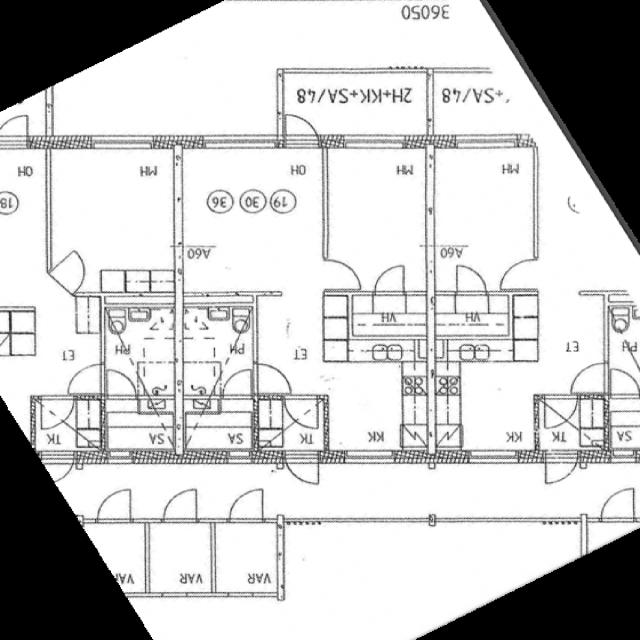door: (214, 501, 278, 598), (33, 396, 94, 450), (90, 486, 138, 527), (596, 484, 640, 528), (51, 250, 92, 296), (226, 485, 269, 527), (160, 486, 202, 528), (281, 109, 323, 151), (321, 253, 364, 293), (496, 256, 540, 295), (567, 358, 611, 396), (282, 447, 322, 488), (281, 394, 323, 433), (539, 396, 579, 436), (64, 359, 107, 396), (450, 260, 491, 298), (370, 260, 410, 298), (542, 448, 581, 486), (252, 359, 292, 396), (38, 398, 78, 432), (0, 109, 35, 146), (103, 366, 137, 399), (222, 366, 255, 399), (607, 364, 640, 397), (43, 451, 75, 482)
window: (196, 131, 276, 157), (336, 131, 406, 154), (89, 132, 152, 156), (453, 135, 518, 155), (340, 448, 398, 468), (465, 448, 521, 468)
zone: (174, 143, 326, 295), (46, 145, 182, 295), (323, 142, 434, 293), (430, 142, 537, 290), (319, 356, 433, 461), (433, 354, 540, 460), (180, 298, 256, 409), (103, 299, 177, 403), (212, 522, 282, 596), (144, 523, 214, 595), (31, 396, 103, 458), (433, 292, 517, 341), (184, 408, 258, 462), (103, 409, 177, 462), (89, 131, 154, 155)
